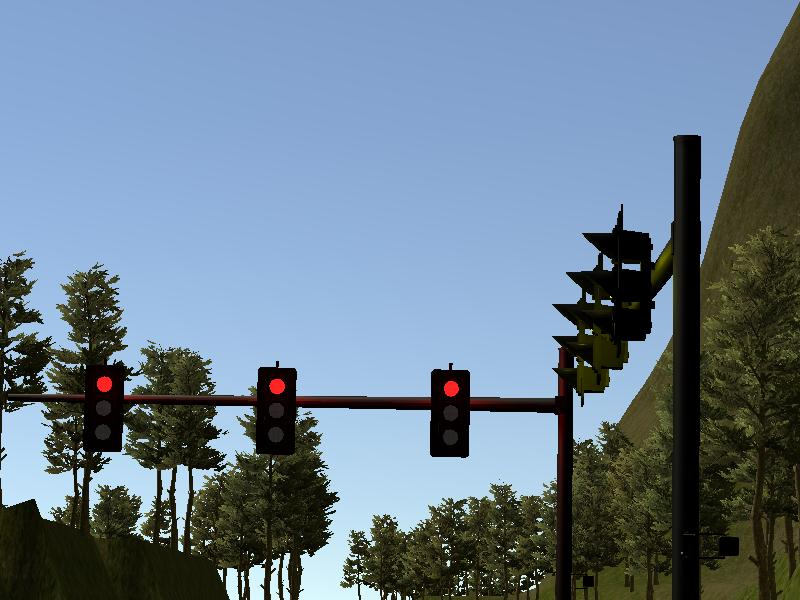Red: (257, 366, 294, 454), (431, 370, 468, 457), (84, 367, 119, 451)
